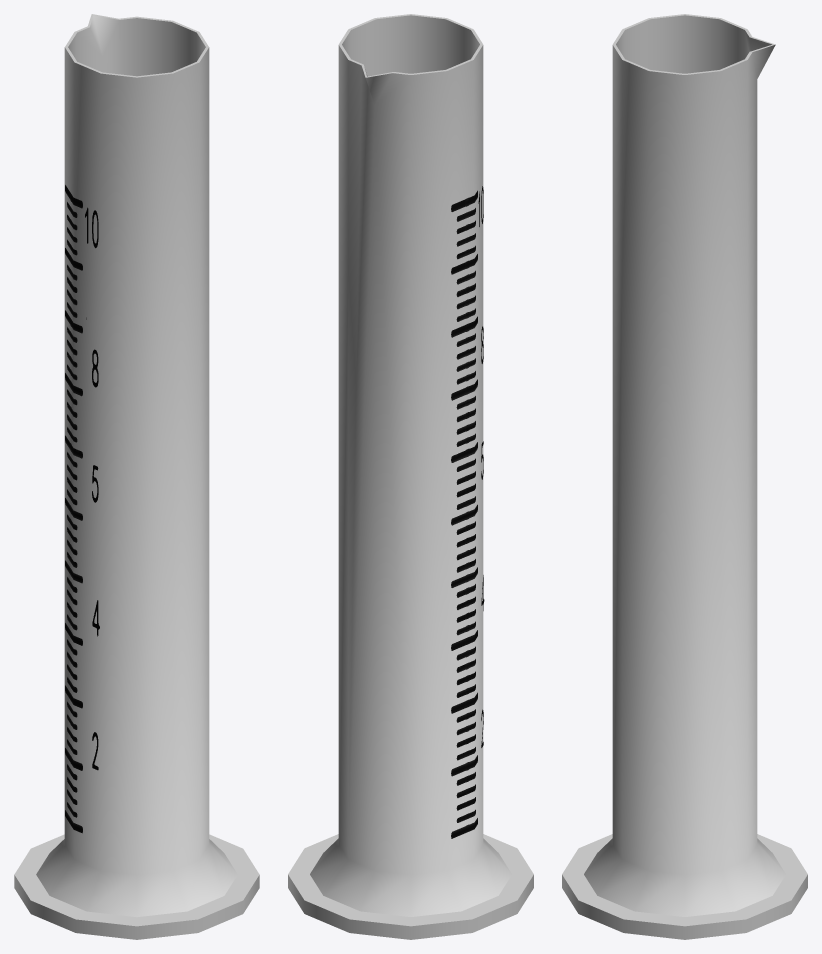
Rendered from SM_玻璃量筒.FBX.
3 views of the same model, side by side, from view 1: azimuth 30°, elevation 25°; view 2: azimuth 150°, elevation 25°; view 3: azimuth 270°, elevation 25° (orthographic).
Parts seen in each view (by area): view 1: SM_玻璃量筒; view 2: SM_玻璃量筒; view 3: SM_玻璃量筒.
Part boxes in pixels (left/top/right/bottom): SM_玻璃量筒: left=14, top=14, right=259, bottom=939; SM_玻璃量筒: left=288, top=14, right=533, bottom=939; SM_玻璃量筒: left=562, top=14, right=807, bottom=939.
Size of the model in its own units: 14.57 by 55.11 by 14.57.
